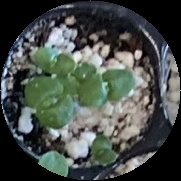Basil: (78, 66, 142, 104), (30, 74, 74, 128), (26, 45, 72, 72), (87, 137, 123, 164)
